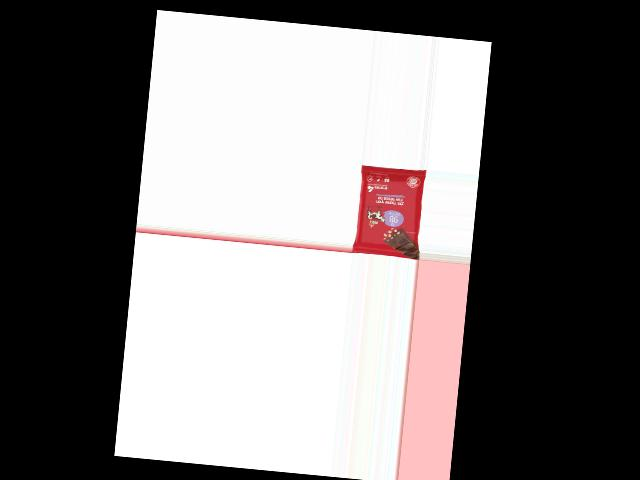chocolate: (352, 163, 424, 258)
